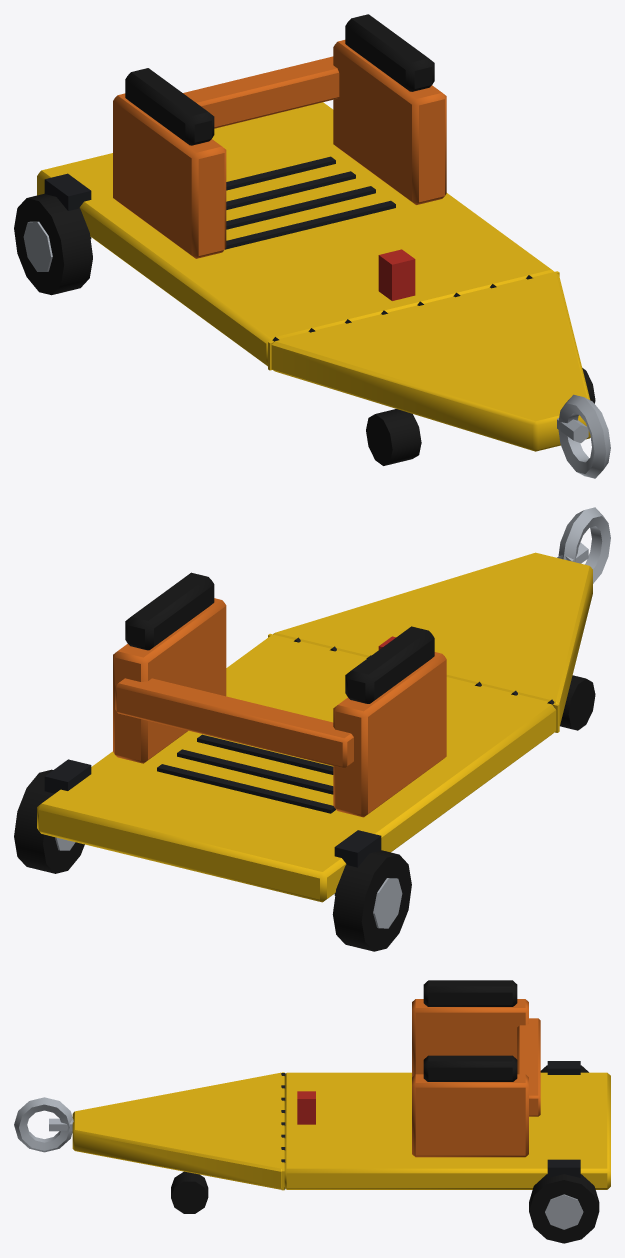
File: hangartool_nose_gear_dolly.glb
3 renders of one model, top to bottom at view 1: azimuth 30°, elevation 25°; view 2: azimuth 150°, elevation 25°; view 3: azimuth 270°, elevation 25°, orthographic. The views are drawn at different scales.
Visible parts, largest first — view 1: hangartool_nose_gear_dolly; view 2: hangartool_nose_gear_dolly; view 3: hangartool_nose_gear_dolly.
Boxes of the visible parts, left/top/right/bottom form: hangartool_nose_gear_dolly: left=14, top=14, right=610, bottom=478; hangartool_nose_gear_dolly: left=14, top=507, right=610, bottom=951; hangartool_nose_gear_dolly: left=14, top=980, right=610, bottom=1243.
Size of the model in its own units: 1.21 by 0.77 by 2.55.
